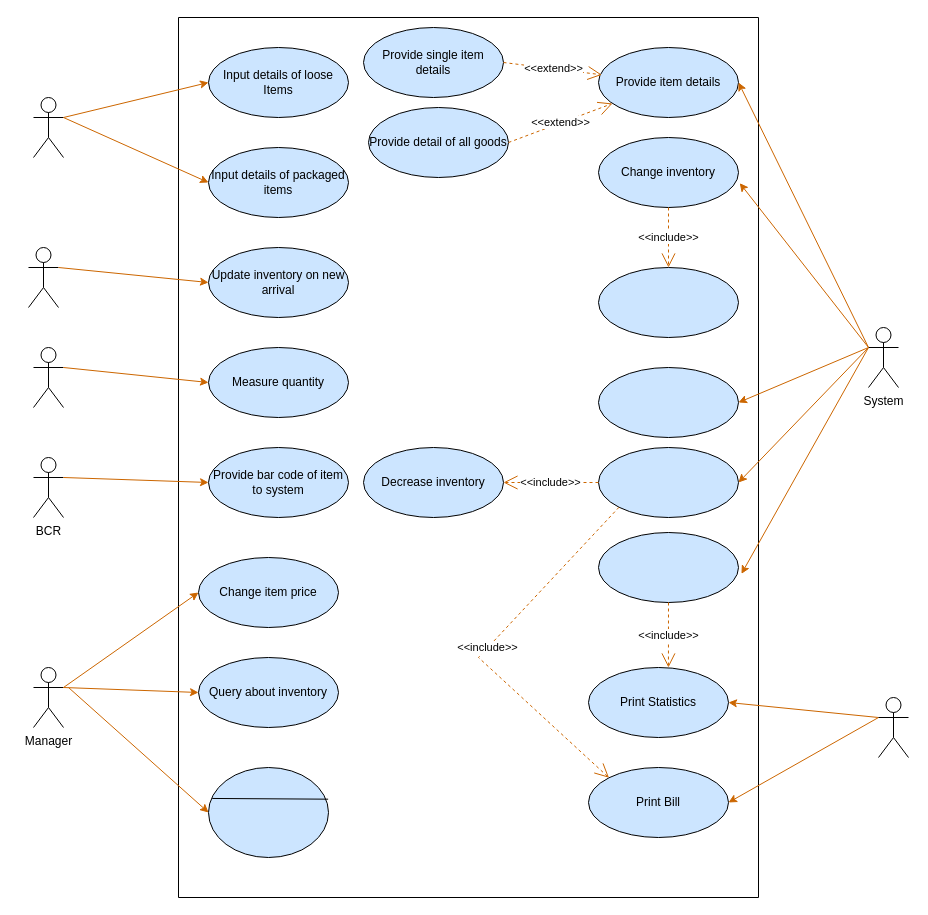
Image size: 928x915. Some labels were removed from this diagram. Each missing label, with the centre of its shape:
"AWM" goes at [48,377].
"Create Final Bill" goes at [668,482].
"Employee" goes at [43,277].
"Printer" goes at [893,727].
"Provide statistics" goes at [668,567].
"Query About Statistics" goes at [268,812].
"Sales Clerk" goes at [48,127].
"Save inventory" goes at [668,302].
"Save transaction Details" goes at [668,402].
